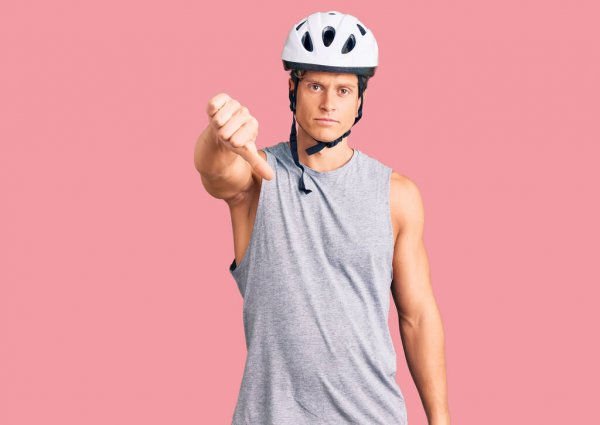helmet: (282, 11, 379, 143)
